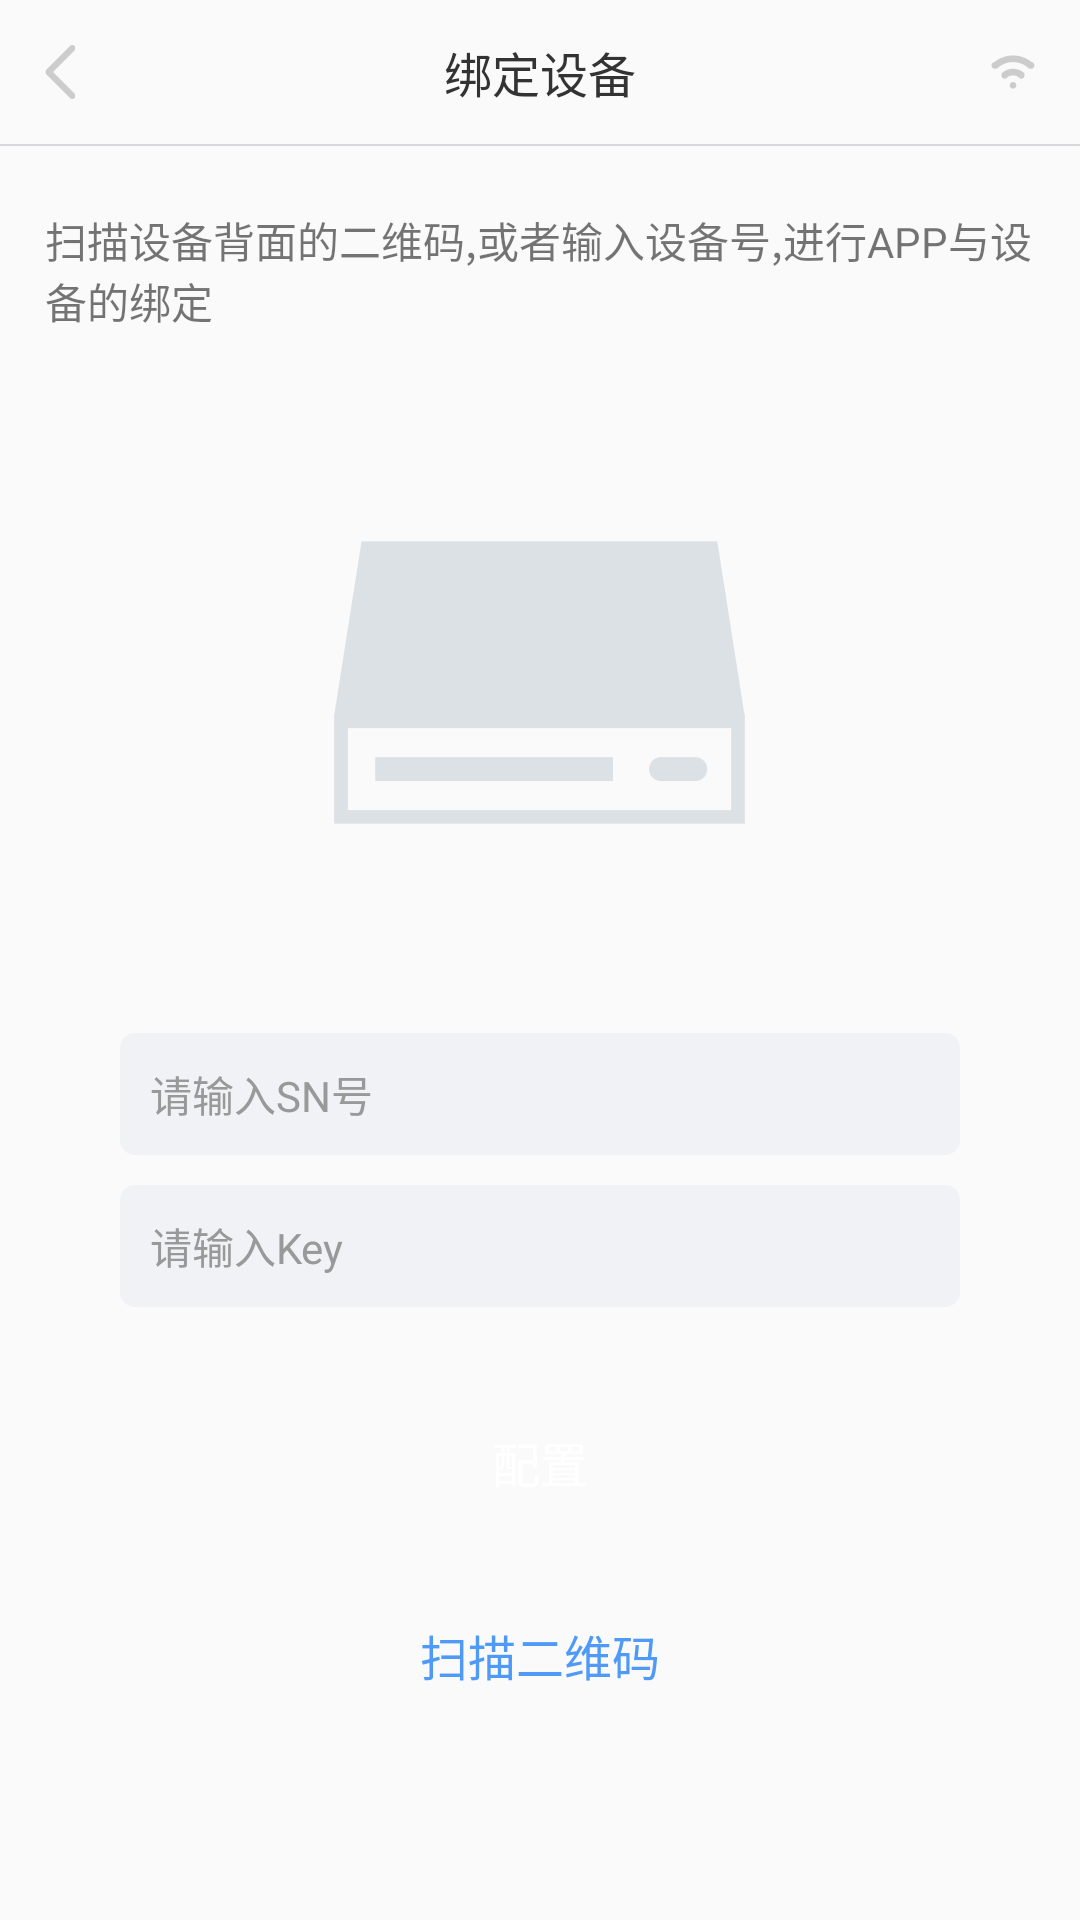

Screen size 1080 × 1920. Icon name, then its center in pixels as (x,y):
back: (60,72)
wifi: (1013,72)
